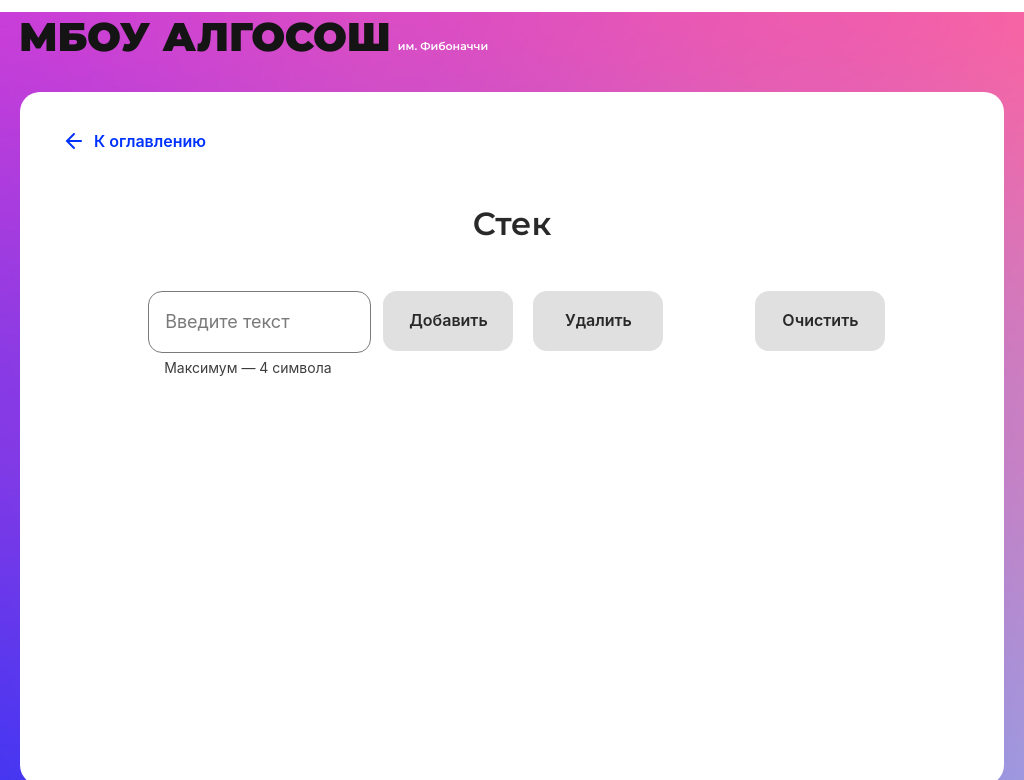
Test: stack page display correctly › clear an element to the queue
Type "1" into the field with placeholder "Введите текст" at {"x": 260, "y": 322}, box x1=148 y1=291 x2=371 y2=353
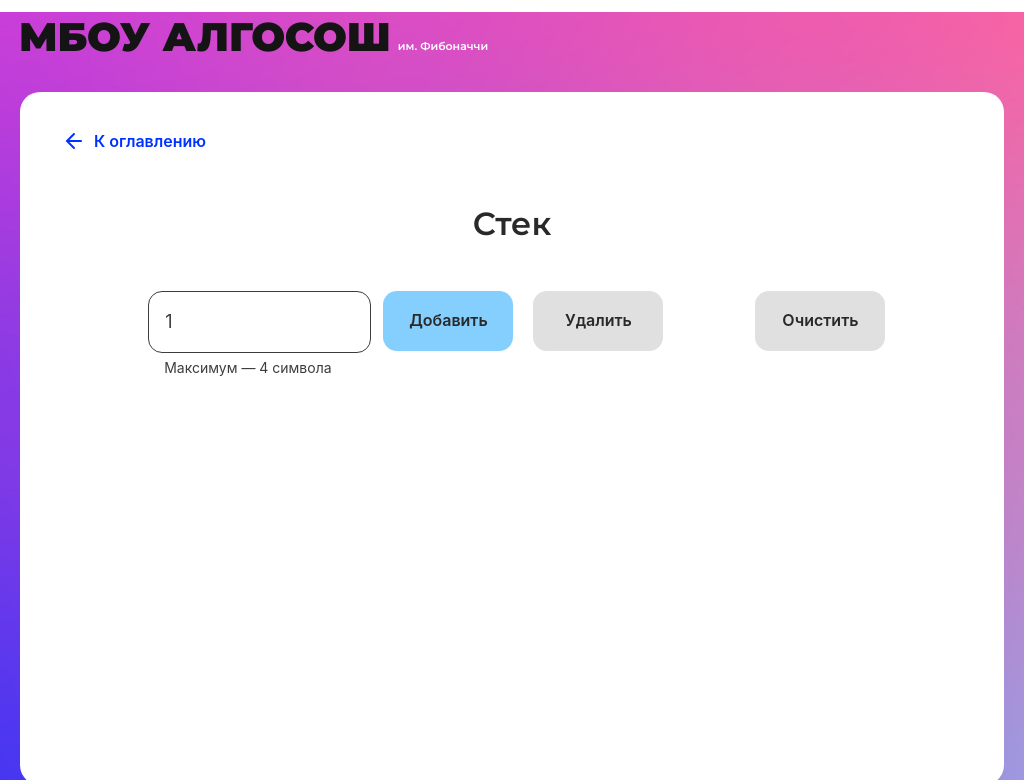
Click the button "Добавить" at {"x": 448, "y": 321}, box x1=383 y1=291 x2=513 y2=351
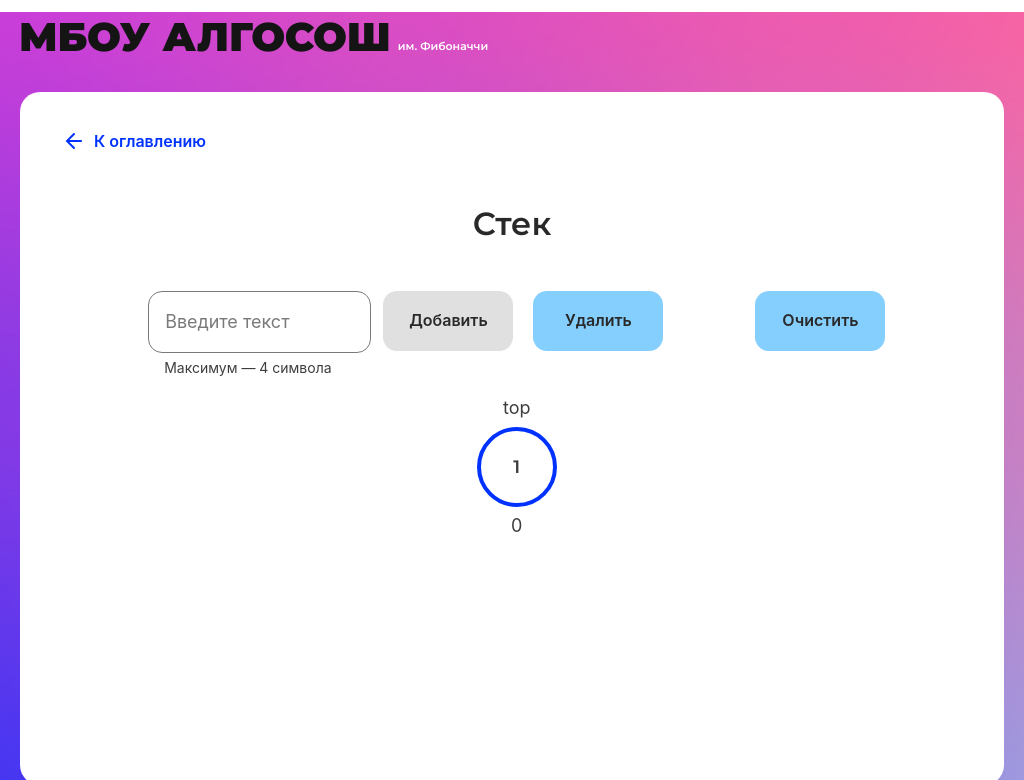
Type "31" into the field with placeholder "Введите текст" at {"x": 260, "y": 322}, box x1=148 y1=291 x2=371 y2=353
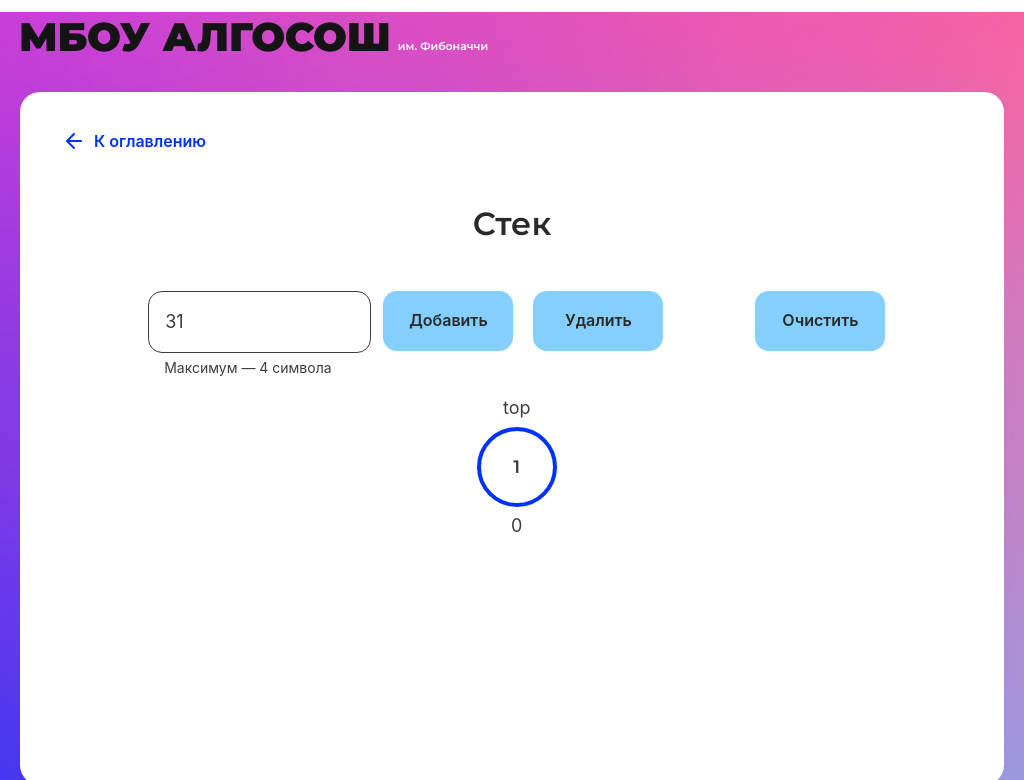
Click the button "Добавить" at {"x": 448, "y": 321}, box x1=383 y1=291 x2=513 y2=351
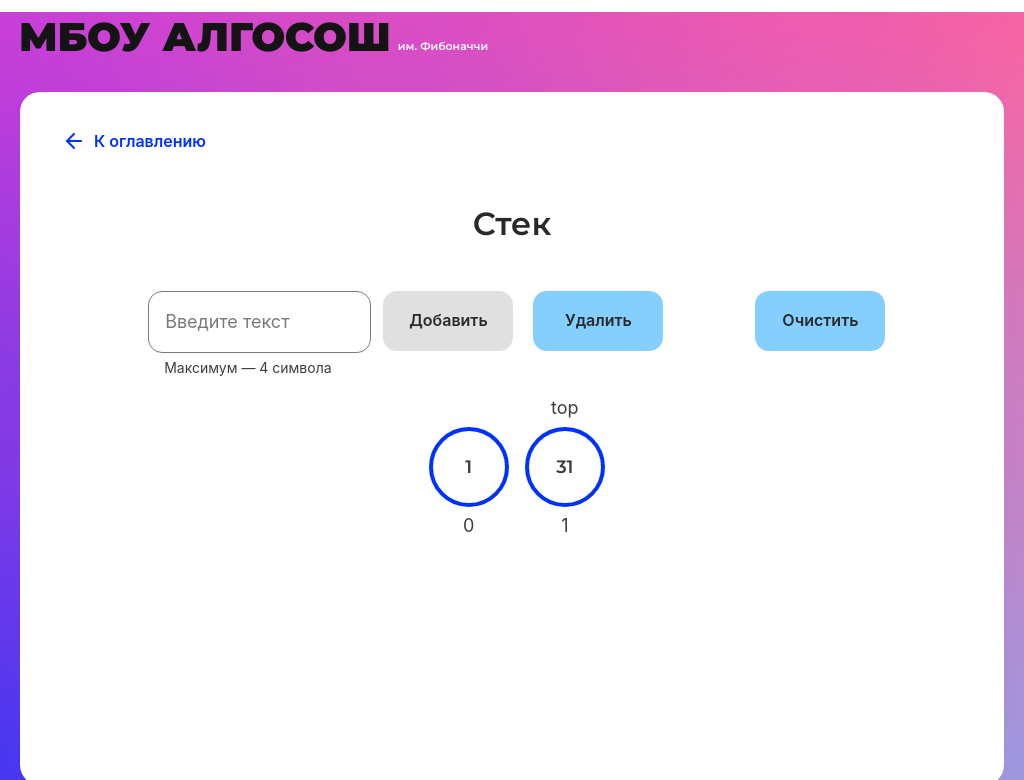
Check: the number of list items is 2, box x1=429 y1=427 x2=509 y2=507; x1=525 y1=427 x2=605 y2=507
Click the button "Очистить" at {"x": 820, "y": 321}, box x1=755 y1=291 x2=885 y2=351
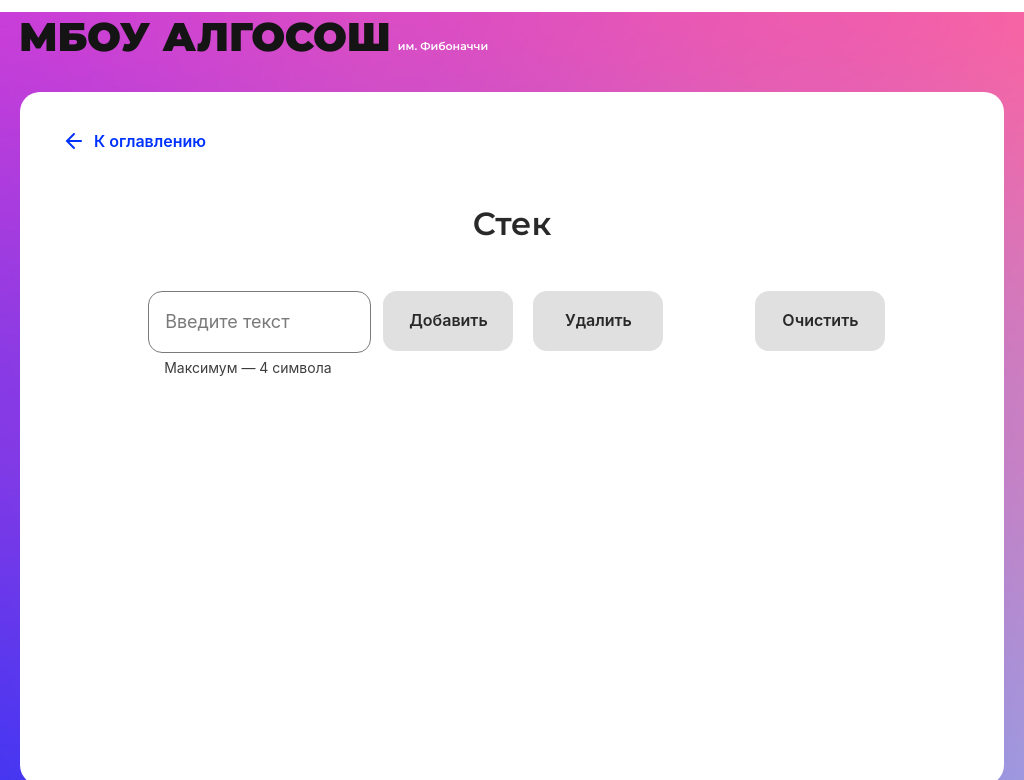
Check: no list items are shown
